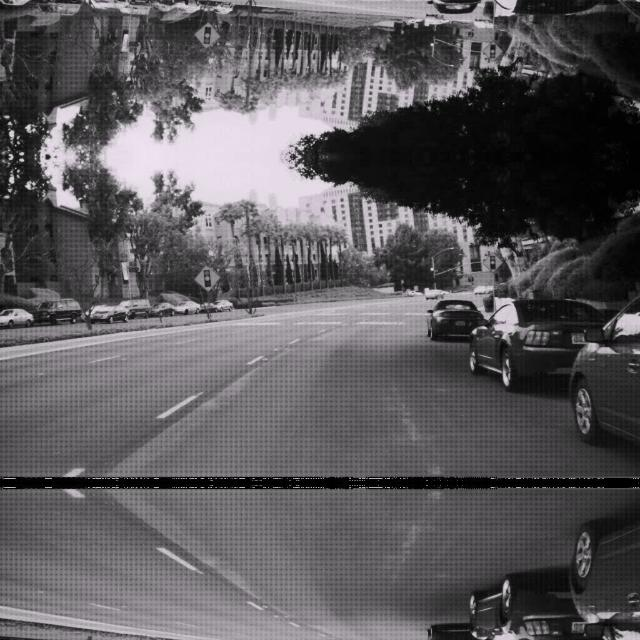signalAhead: (192, 263, 220, 291), (192, 21, 220, 49), (482, 250, 502, 272), (482, 40, 502, 61)
